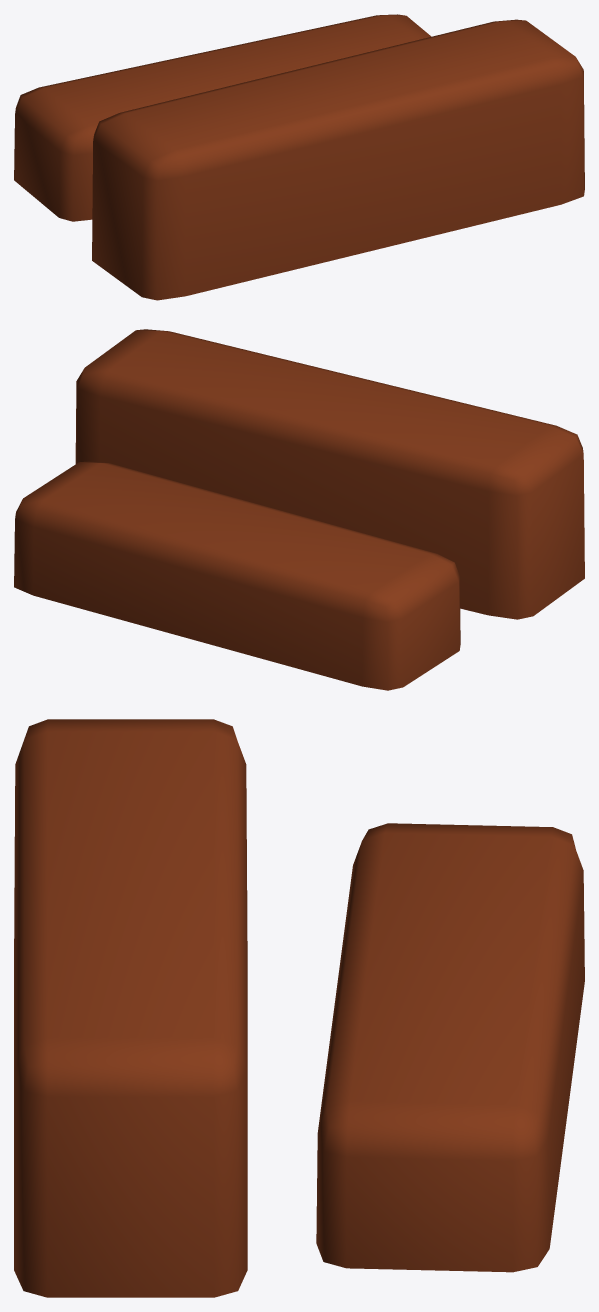
The model's file is steps.obj.
3 views of the same model, one above another, from view 1: azimuth 30°, elevation 25°; view 2: azimuth 150°, elevation 25°; view 3: azimuth 270°, elevation 25° (orthographic). The views are drawn at different scales.
Visible parts, largest first — view 1: steps; view 2: steps; view 3: steps.
Boxes of the visible parts, x1,y1,x2,y2 form: steps: [14, 14, 584, 300]; steps: [14, 329, 584, 690]; steps: [14, 719, 584, 1297].
Bounding box in the file's own units: 1.44 × 0.4335 × 0.9647.
